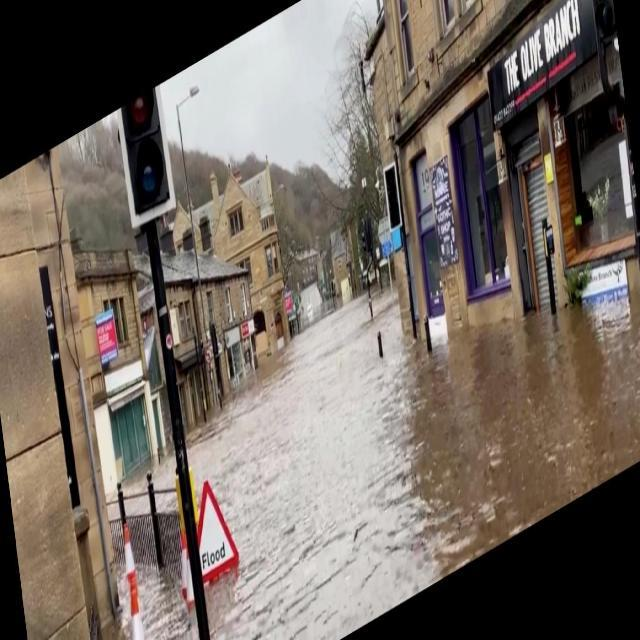flood: (173, 136, 640, 639)
